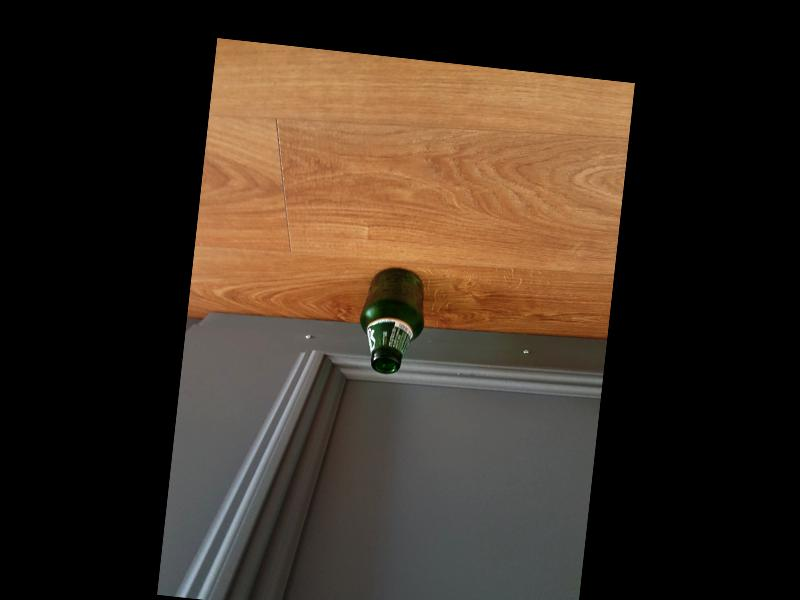Beer: (354, 264, 429, 376)
